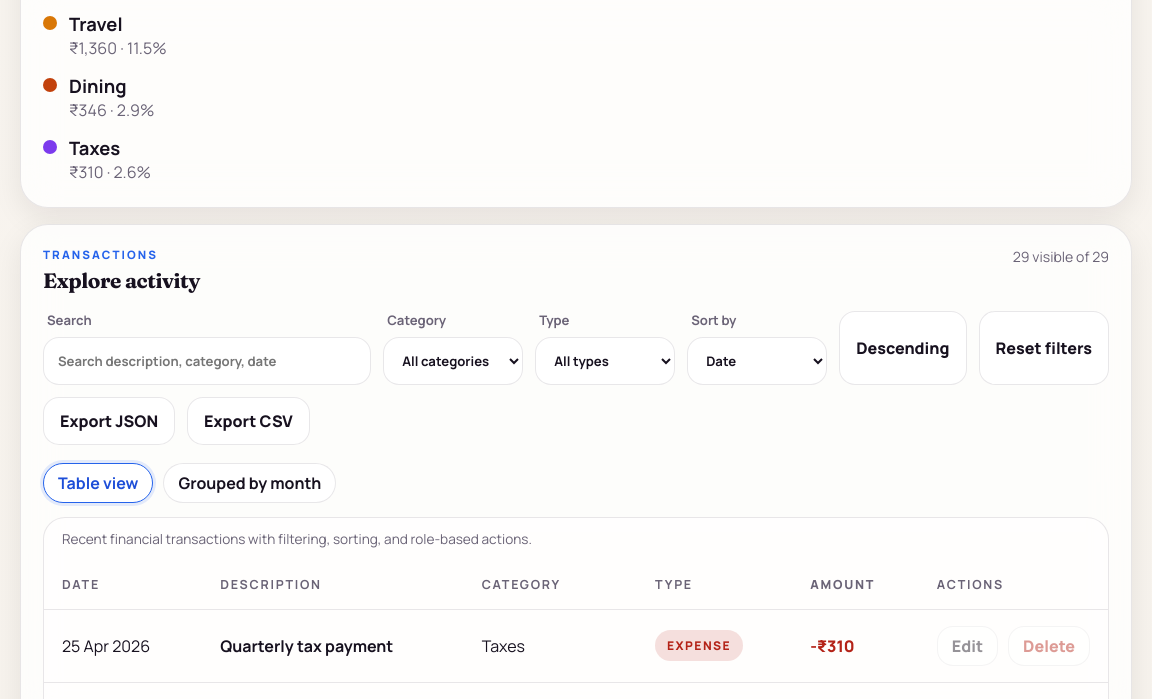
Test case: App UI flows › shows and clears transaction empty state through filters
(page scrolled)
In the field with placeholder "Search description, category, date": (207, 360) [43,336,371,384], type "zzzz-no-match"
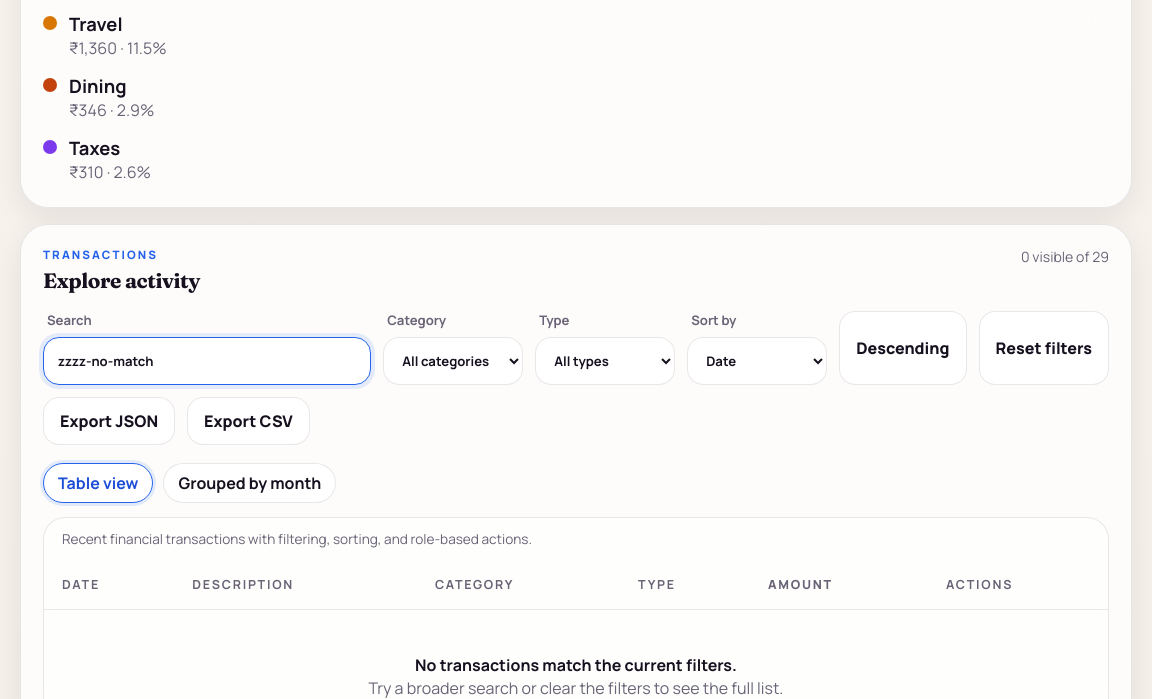
Expected: the text "No transactions match the current filters." is shown, [415,654,737,676]
Click the button "Reset filters": (1044, 348) [978,310,1109,384]
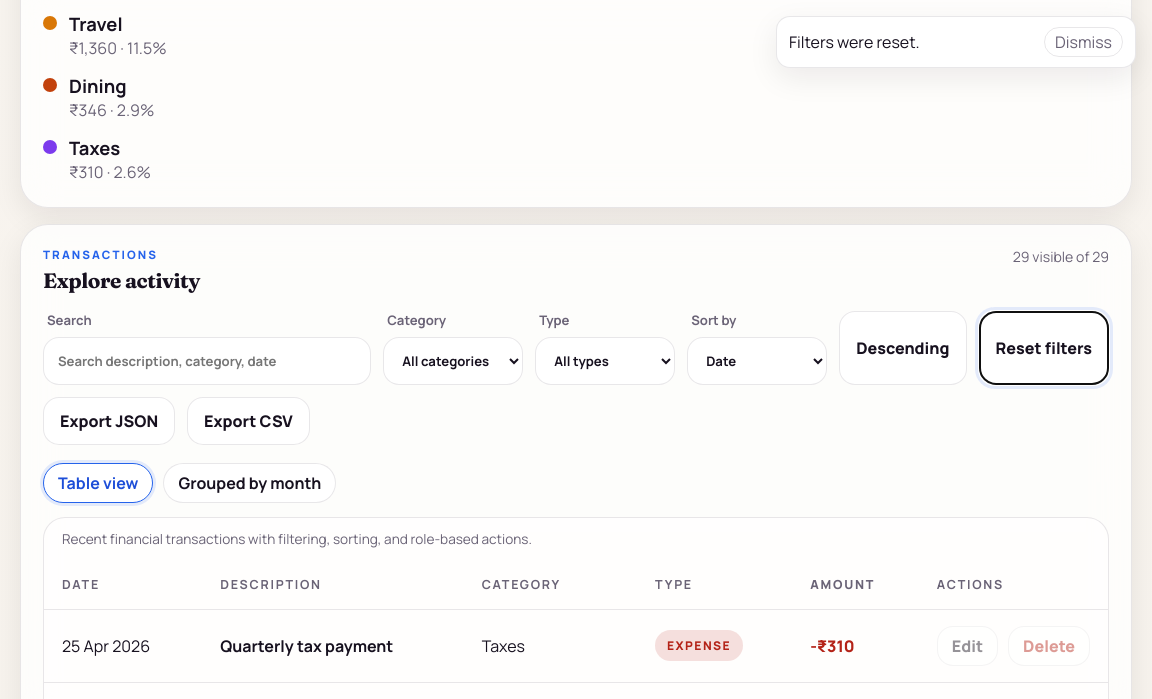
Expected: the text "No transactions match the current filters" is not shown
